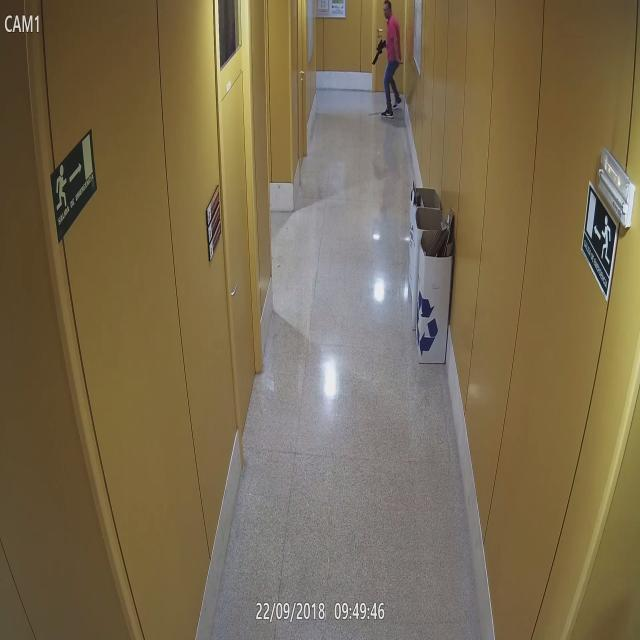pistol: (371, 40, 388, 68)
